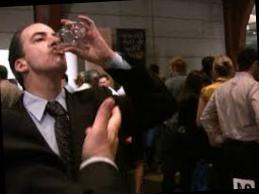Drunk: (23, 23, 69, 71)
